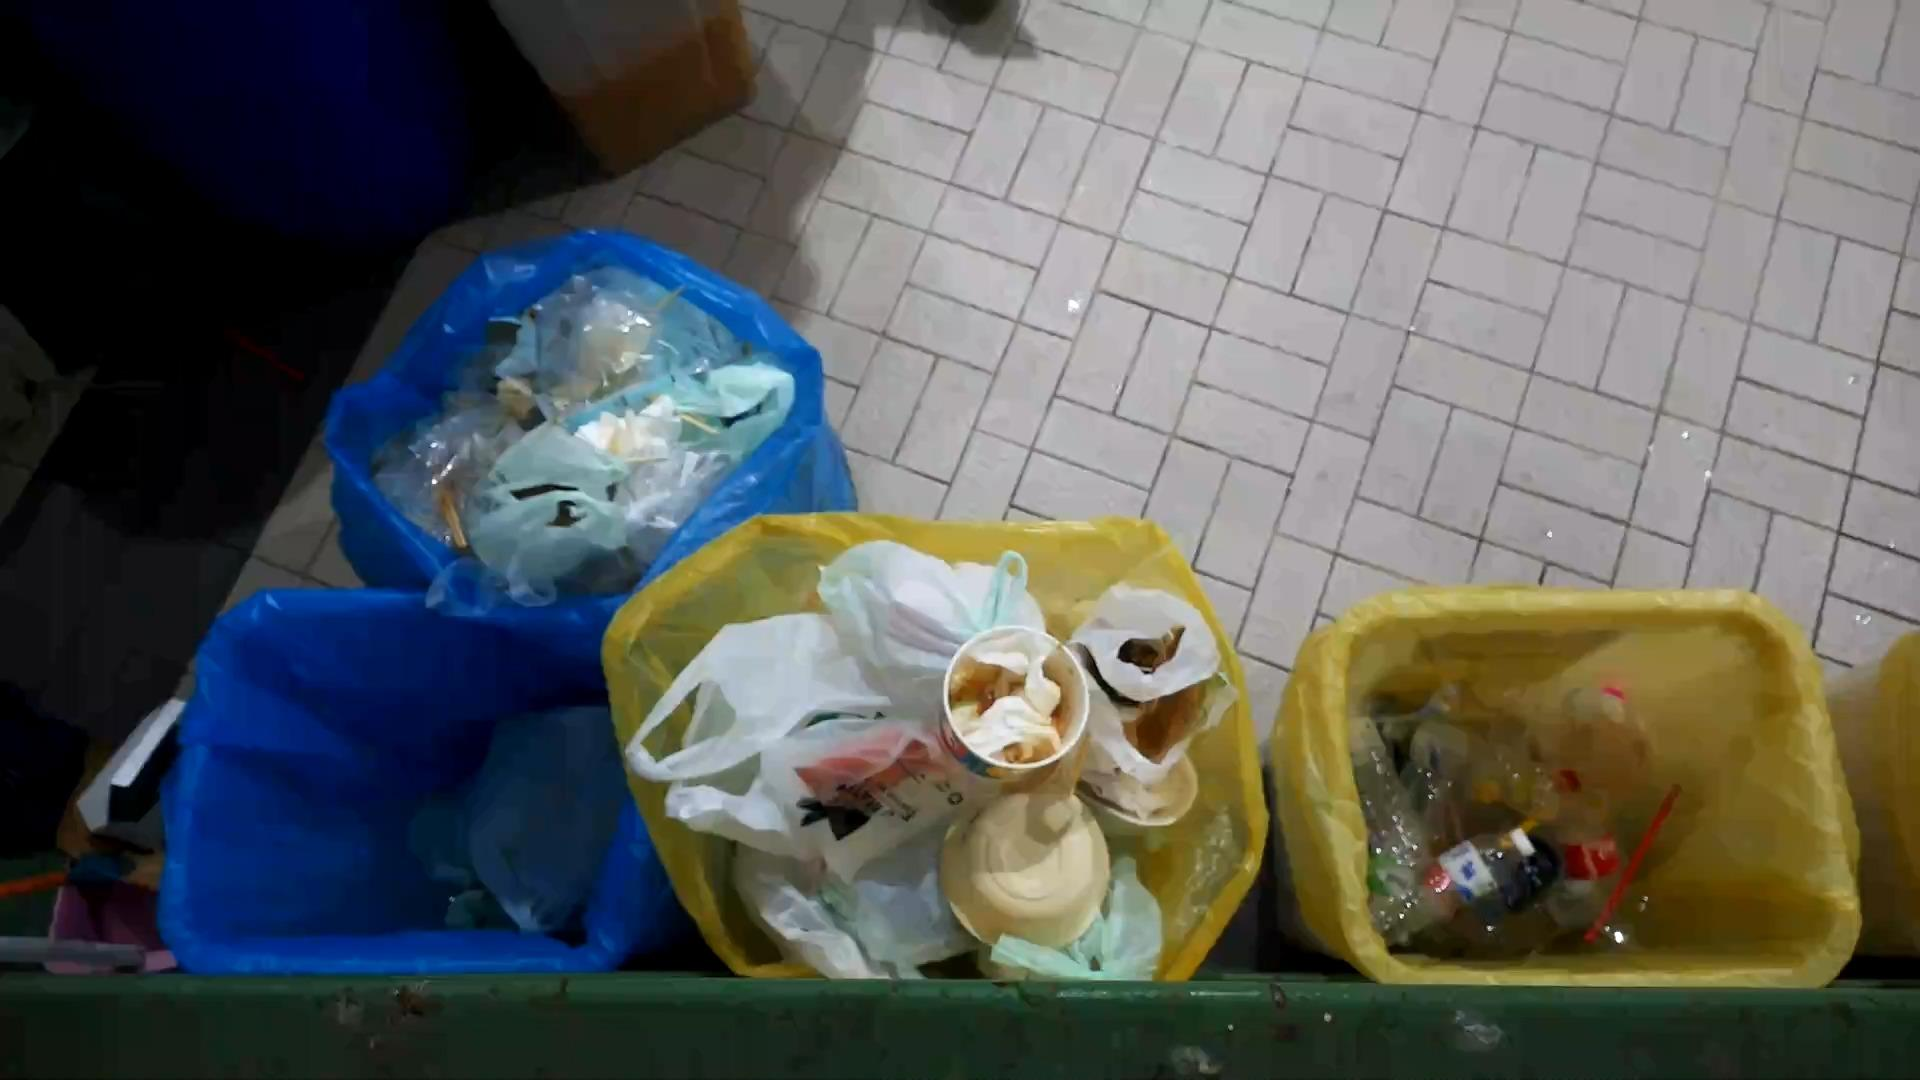filled plastic bag: (628, 615, 982, 868), (811, 534, 1055, 712), (728, 844, 985, 992), (1075, 582, 1247, 799), (616, 356, 803, 555), (458, 419, 636, 616), (518, 256, 727, 415), (992, 853, 1172, 998)
food container: (934, 777, 1118, 955), (926, 621, 1100, 795)
plastic bag: (464, 705, 625, 932)
plastic bottle: (1367, 823, 1547, 949), (1379, 719, 1561, 825), (1340, 694, 1443, 880), (1584, 777, 1684, 951), (1553, 770, 1647, 951)
tissue paper: (951, 626, 1080, 756), (572, 397, 684, 471)
